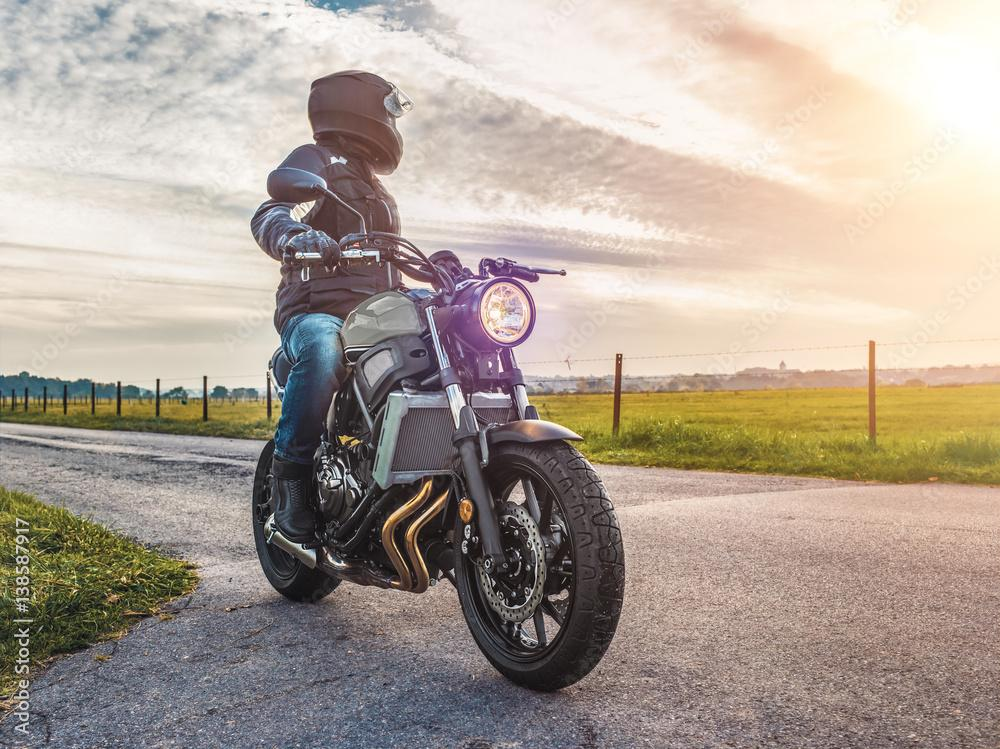helmet: (307, 68, 416, 176)
